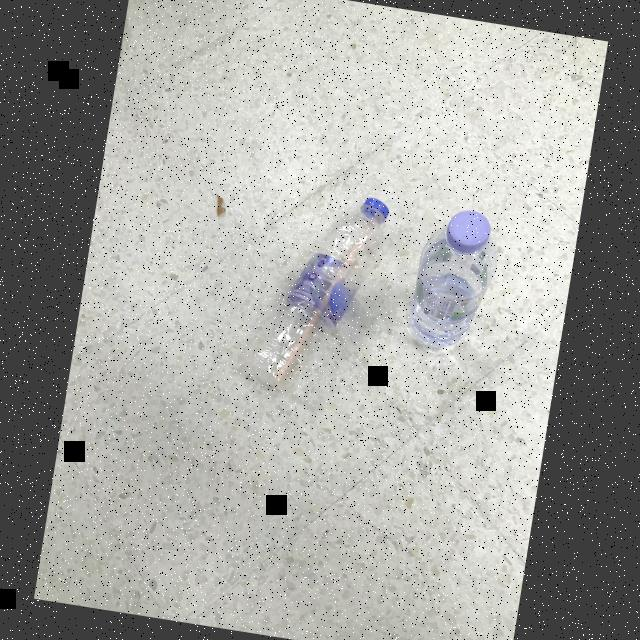plastic_bottle: (232, 182, 390, 408), (402, 202, 504, 356)
plastic_bottle_cap: (440, 206, 493, 258), (357, 195, 392, 229)
straw: (267, 219, 371, 394)
